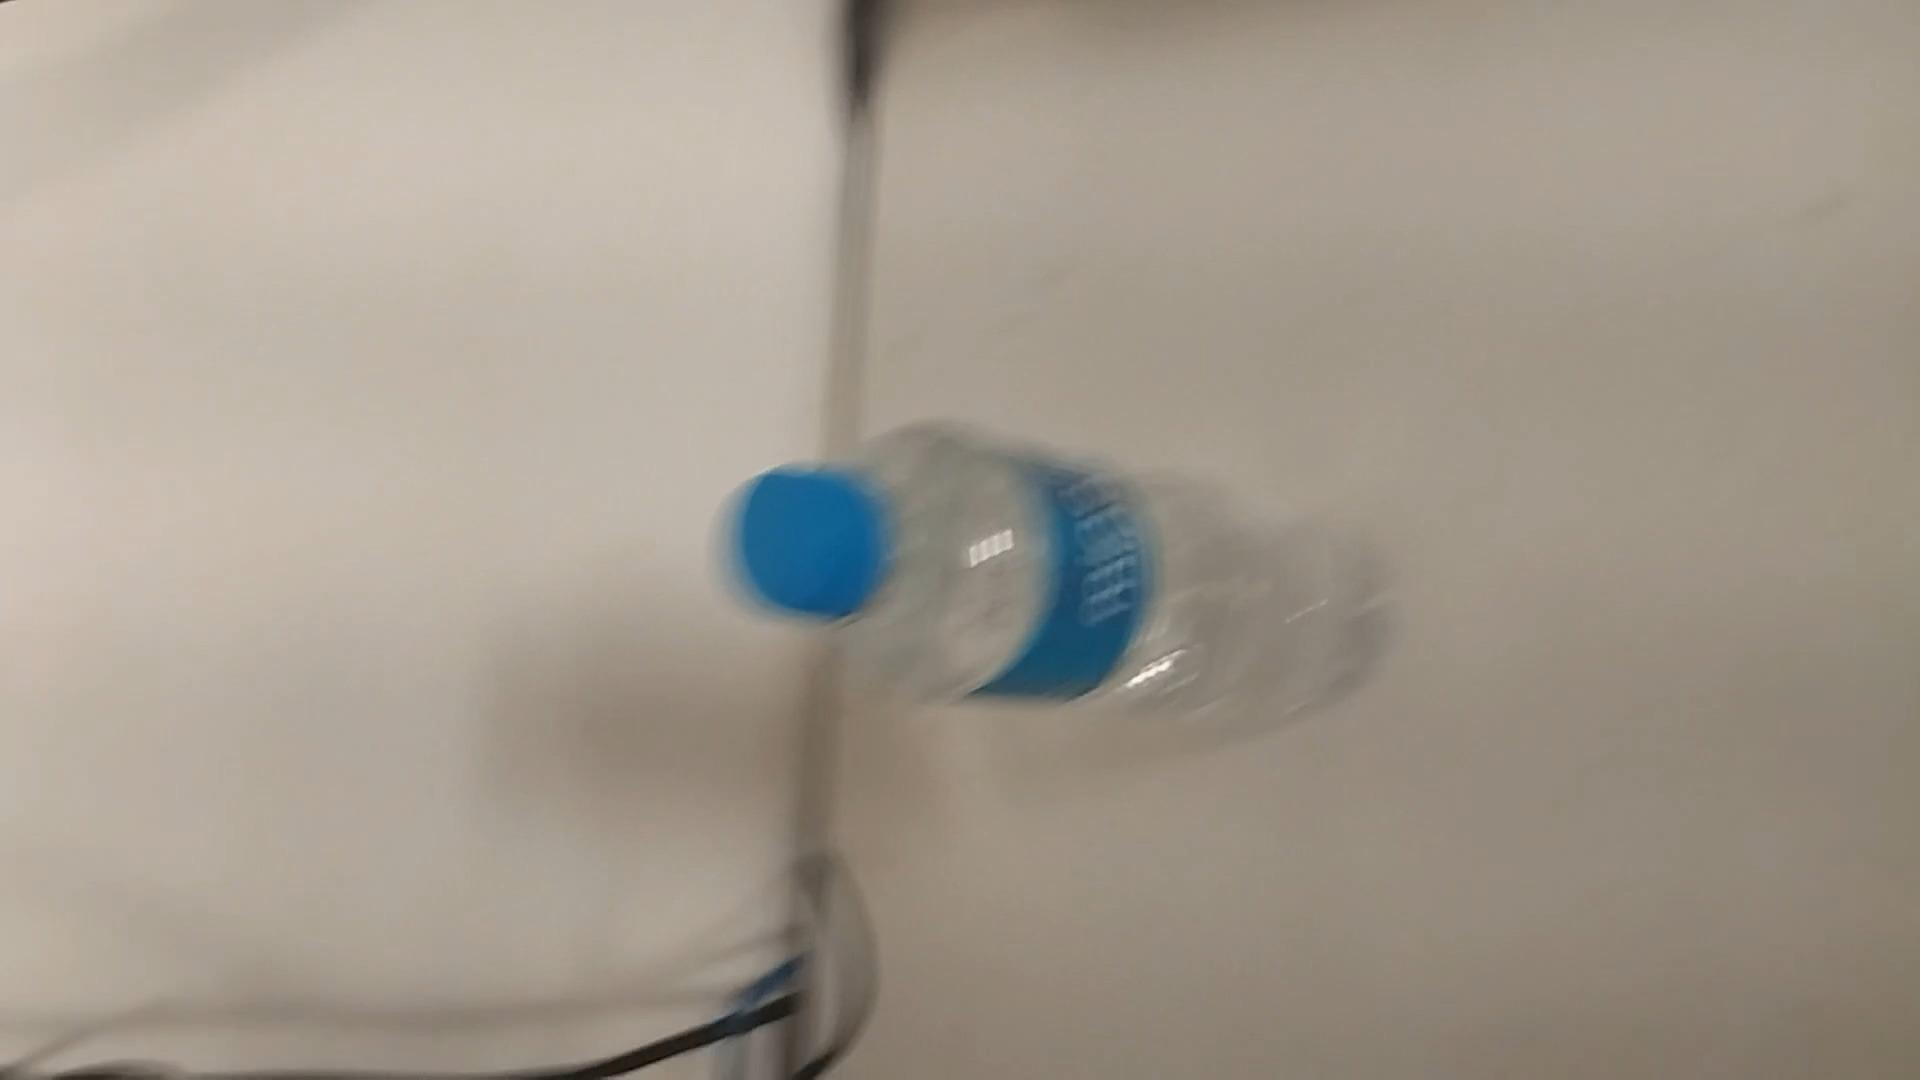agua: (732, 421, 1383, 729)
